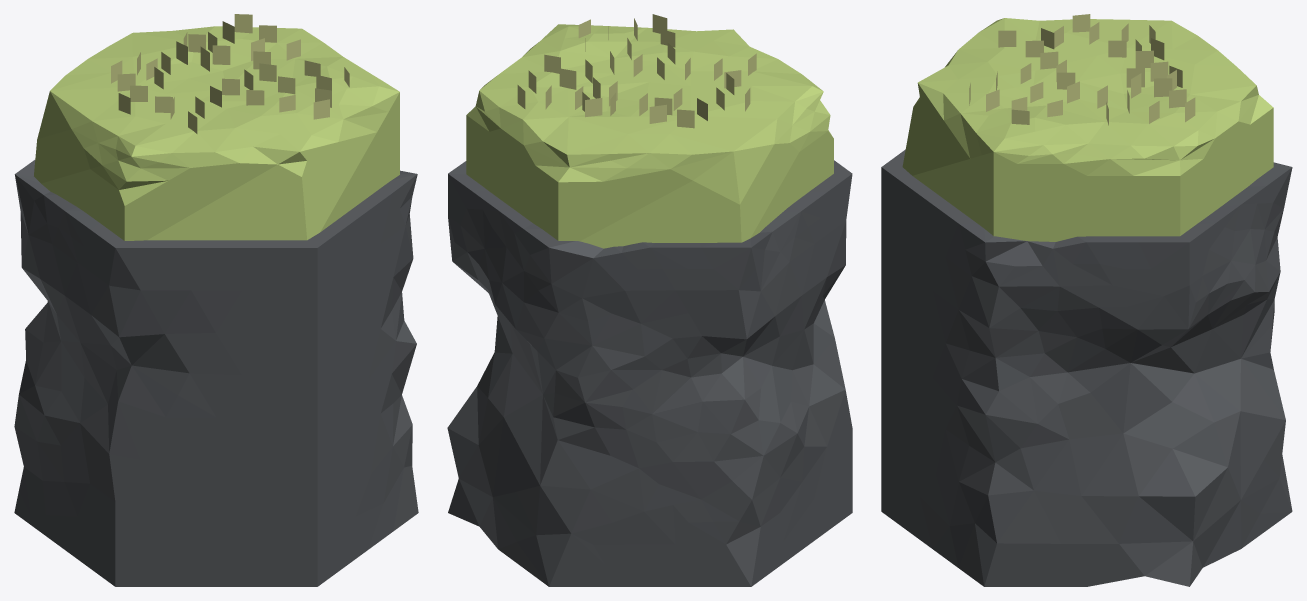
The model's file is plain.fbx.
The picture shows the model from 3 angles, left to right: view 1: azimuth 30°, elevation 25°; view 2: azimuth 150°, elevation 25°; view 3: azimuth 270°, elevation 25°; orthographic projection.
Visible parts, largest first — view 1: plain_base.004, plain_top, Plane.035; view 2: plain_base.004, plain_top, Plane.035; view 3: plain_base.004, plain_top, Plane.035.
Boxes of the visible parts, x1,y1,x2,y2 form: plain_base.004: (14,160,418,586); plain_top: (34,26,399,240); Plane.035: (111,14,349,133); plain_base.004: (447,160,852,586); plain_top: (466,24,833,248); Plane.035: (517,14,756,128); plain_base.004: (881,149,1292,586); plain_top: (902,18,1273,241); Plane.035: (969,14,1195,125).
Bounding box in the file's own units: 234 × 318 × 263.
3 materials, 3 textured.
